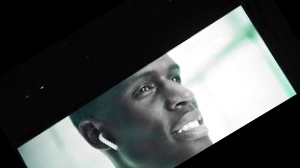earphone: (75, 110, 120, 162)
